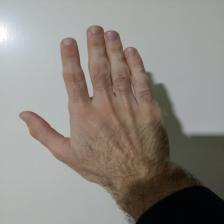five: (20, 22, 175, 180)
